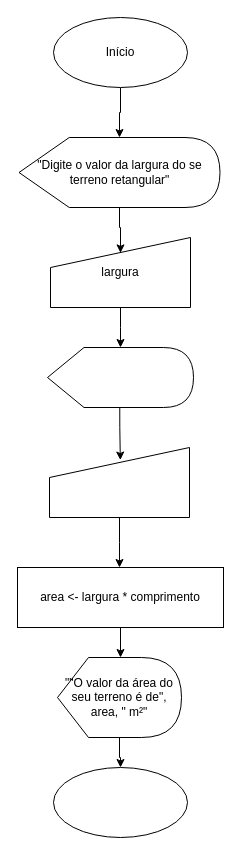
Image size: 241x855. Some labels were removed from this diagram. The shapes that lost their labels are listed below. From the top down, each one's centre as x and y in pixels, then its label:
(120,377): "Digite o valor do comprimento do seu terreno retangular"
(119,482): comprimento
(120,802): Fim
